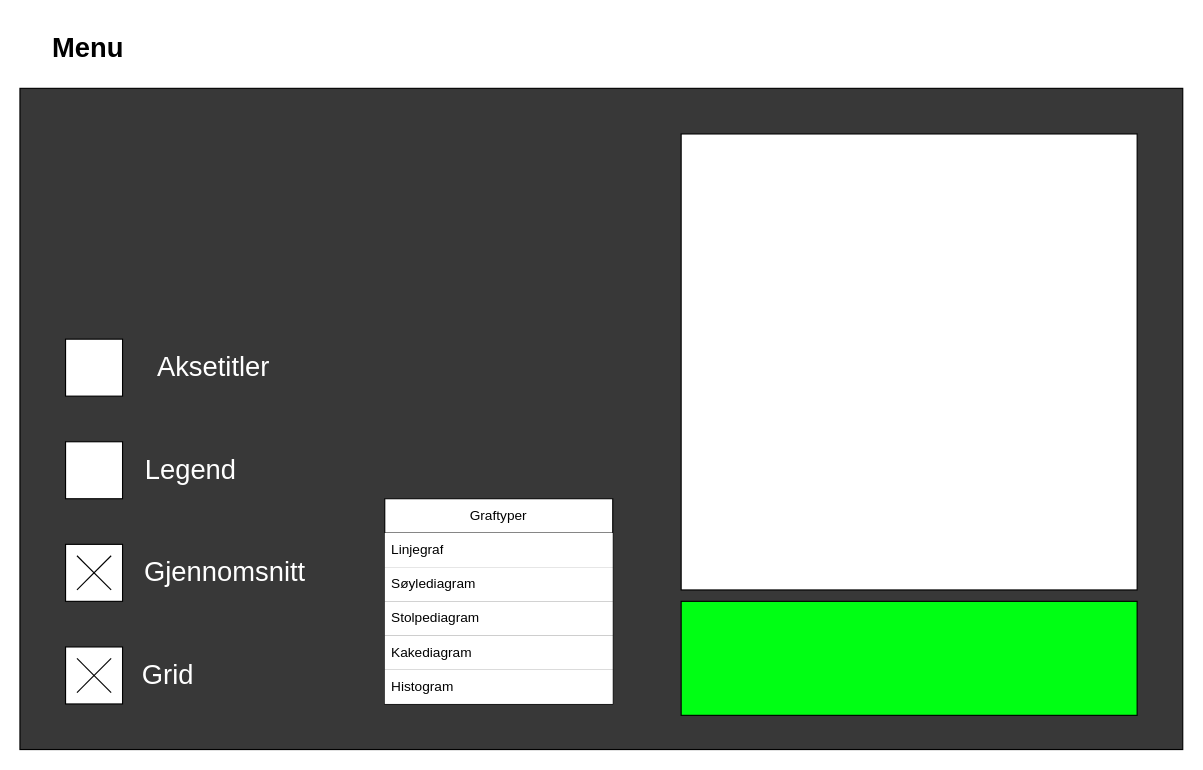
Image size: 1203x770. Some labels were removed from this diagram. The centre of each missing label's shape, as x and y in pixels:
"PLOTT" belongs at pixel 908 361.
"Vis plott" belongs at pixel 908 657.
